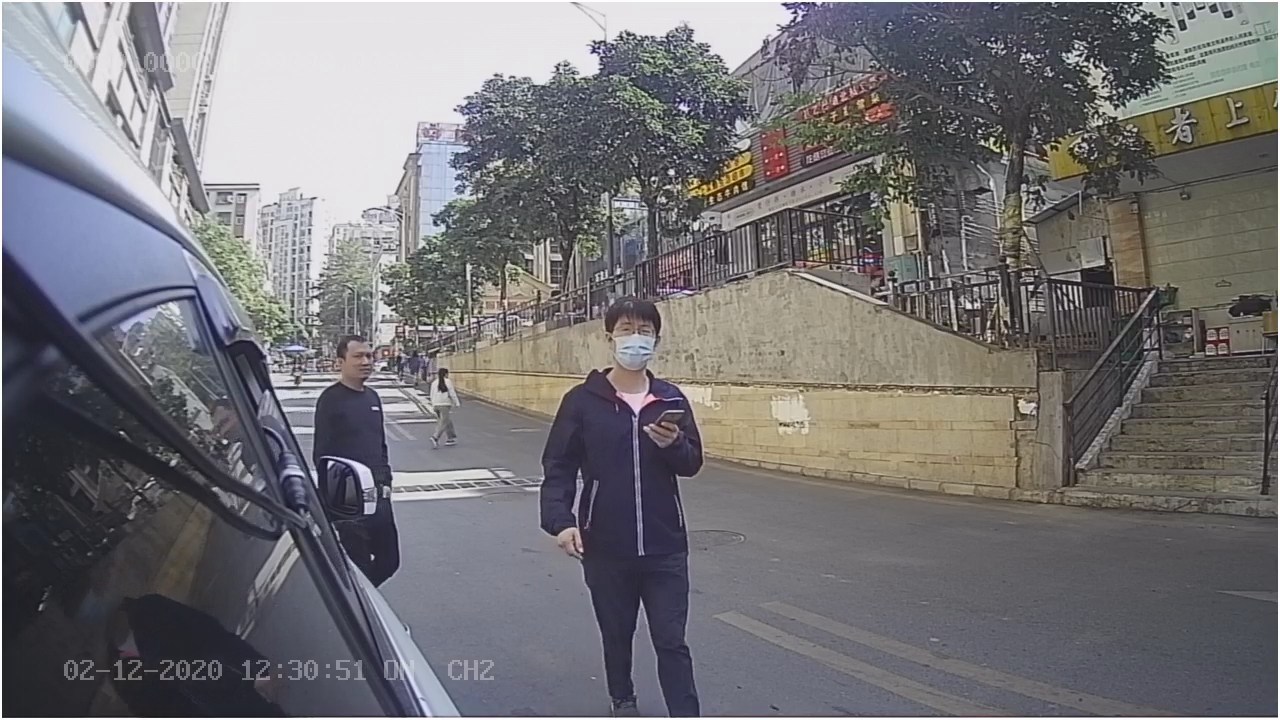person: (534, 294, 715, 562), (310, 335, 395, 452)
